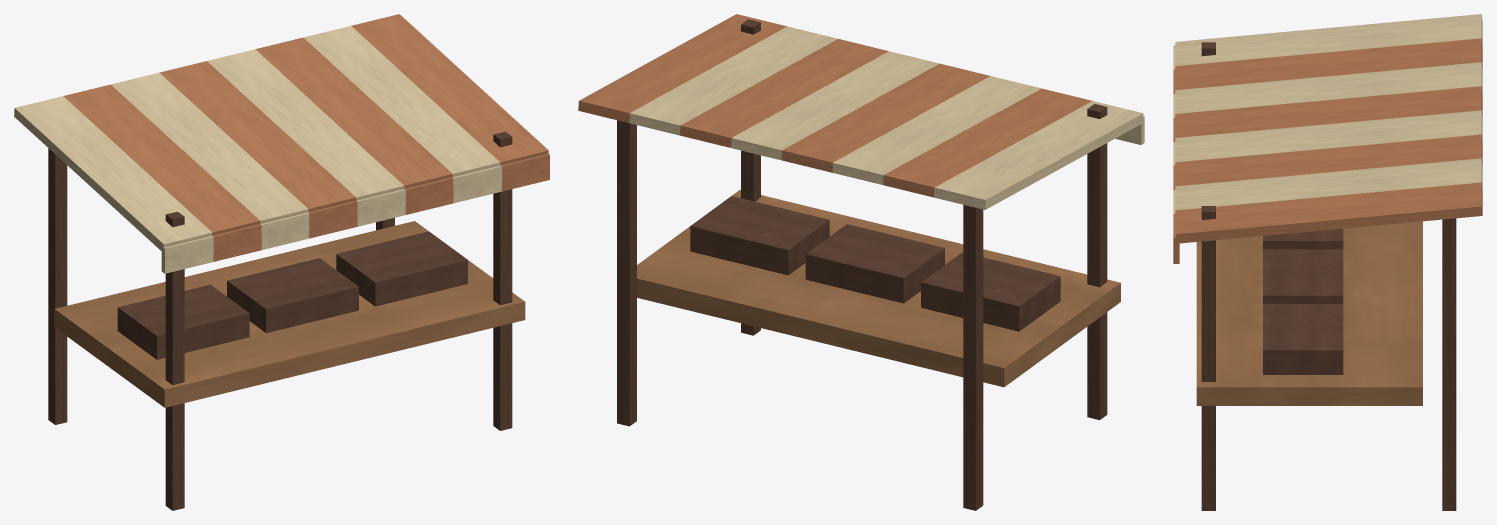
Rendered from MarketStall.glb.
3 renders of one model, left to right at view 1: azimuth 30°, elevation 25°; view 2: azimuth 150°, elevation 25°; view 3: azimuth 270°, elevation 25°, orthographic. The views are drawn at different scales.
Visible parts, largest first — view 1: Counter, Canvas stripe, Canvas stripe.002, Canvas stripe.005, Canvas stripe.004, Canvas stripe.001, Canvas stripe.006, Canvas stripe.003, Canvas stripe.007, Produce bin.001, Produce bin.002, Produce bin (+11 smaller); view 2: Counter, Canvas stripe, Produce bin.002, Produce bin.001, Canvas stripe.002, Canvas stripe.005, Canvas stripe.001, Canvas stripe.006, Canvas stripe.003, Canvas stripe.004, Canvas stripe.007, Upright.001 (+4 smaller); view 3: Counter, Canvas stripe.007, Canvas stripe.004, Canvas stripe.003, Canvas stripe.005, Canvas stripe.001, Canvas stripe.006, Canvas stripe.002, Canvas stripe, Produce bin.002, Produce bin.001, Upright.003 (+2 smaller).
Part boxes in pixels (x1,y1,x2,y2): Counter: (54, 221, 525, 407); Canvas stripe: (14, 96, 212, 252); Canvas stripe.002: (111, 72, 308, 223); Canvas stripe.005: (255, 37, 452, 188); Canvas stripe.004: (207, 49, 404, 200); Canvas stripe.001: (63, 84, 260, 235); Canvas stripe.006: (303, 26, 500, 177); Canvas stripe.003: (159, 61, 356, 212); Canvas stripe.007: (351, 14, 548, 165); Produce bin.001: (227, 258, 358, 332); Produce bin.002: (336, 231, 467, 306); Produce bin: (117, 284, 249, 359); Counter: (637, 190, 1120, 387); Canvas stripe: (934, 101, 1143, 209); Produce bin.002: (690, 196, 829, 275); Produce bin.001: (805, 224, 944, 303); Canvas stripe.002: (832, 76, 1041, 184); Canvas stripe.005: (680, 39, 888, 147); Canvas stripe.001: (883, 88, 1092, 197); Canvas stripe.006: (629, 26, 837, 135); Canvas stripe.003: (781, 63, 989, 172); Canvas stripe.004: (730, 51, 939, 159); Canvas stripe.007: (578, 14, 787, 122); Upright.001: (963, 205, 983, 510); Counter: (1196, 221, 1422, 405); Canvas stripe.007: (1175, 182, 1482, 243); Canvas stripe.004: (1175, 110, 1482, 162); Canvas stripe.003: (1175, 86, 1482, 137); Canvas stripe.005: (1175, 134, 1482, 186); Canvas stripe.001: (1175, 38, 1482, 90); Canvas stripe.006: (1175, 158, 1482, 210); Canvas stripe.002: (1175, 62, 1482, 113); Canvas stripe: (1175, 14, 1482, 65); Produce bin.002: (1263, 304, 1343, 374); Produce bin.001: (1263, 249, 1343, 303); Upright.003: (1442, 218, 1456, 510).
Bounding box in the file's own units: 3.52 × 2.7 × 2.39.
Materials: 4 (4 with a texture image).
